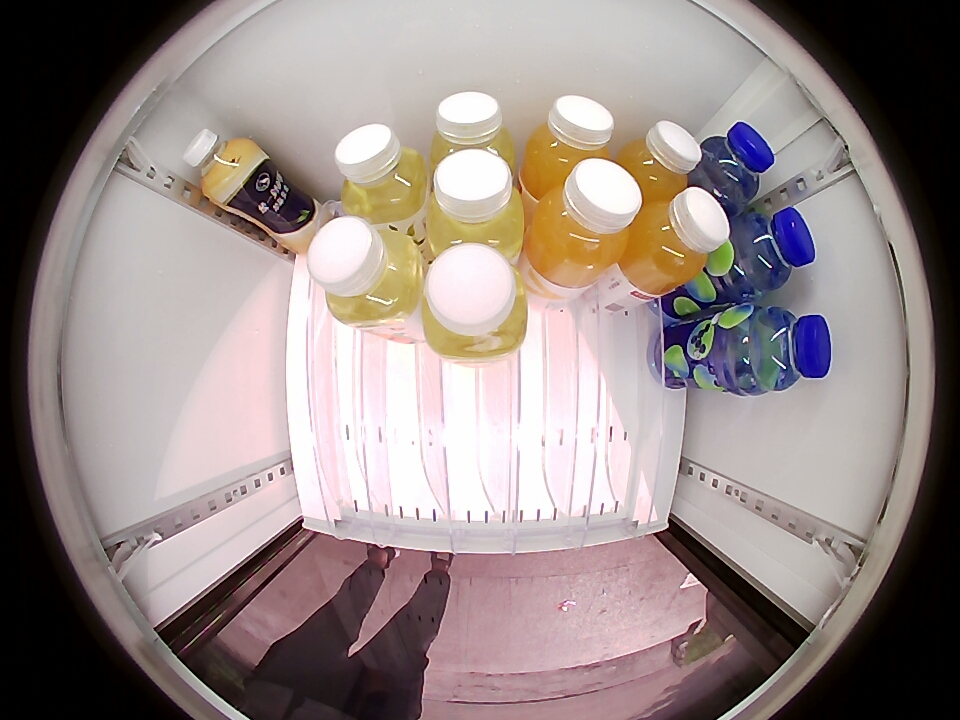asamu: (182, 129, 256, 202)
chapai2: (308, 215, 422, 328), (421, 243, 527, 362), (428, 148, 525, 259), (336, 123, 430, 223), (431, 92, 516, 173)
maidong: (724, 301, 832, 397), (724, 207, 816, 299), (696, 122, 776, 207)
weic: (524, 158, 642, 289), (617, 188, 731, 295), (522, 96, 615, 197), (614, 121, 702, 202)
